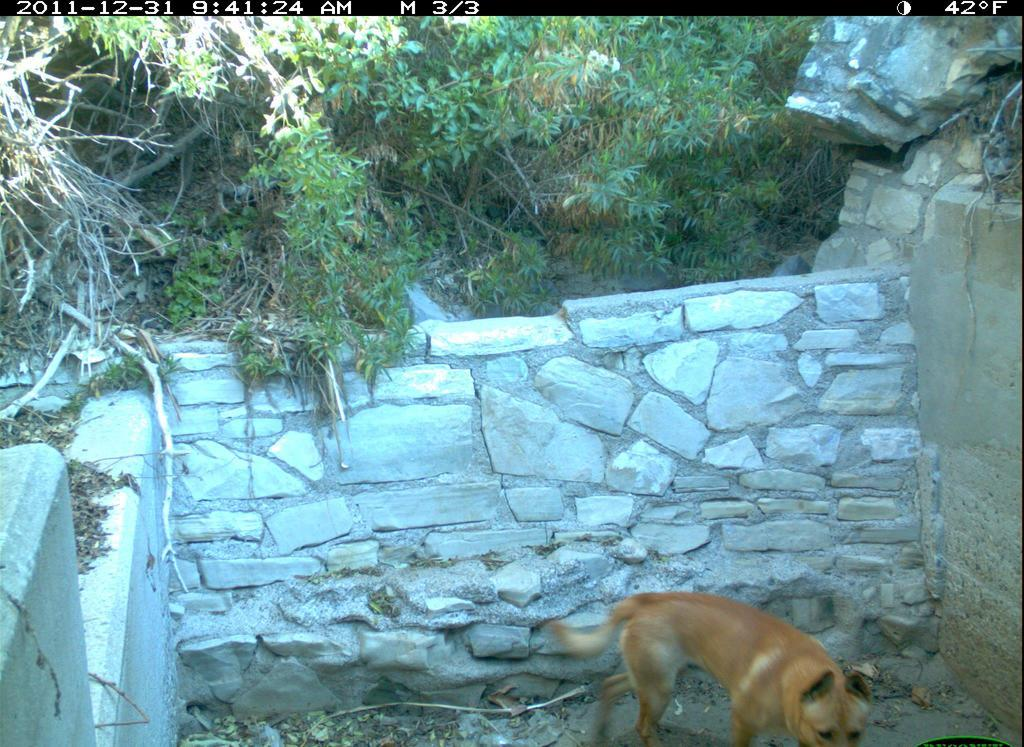dog: (553, 577, 873, 747)
